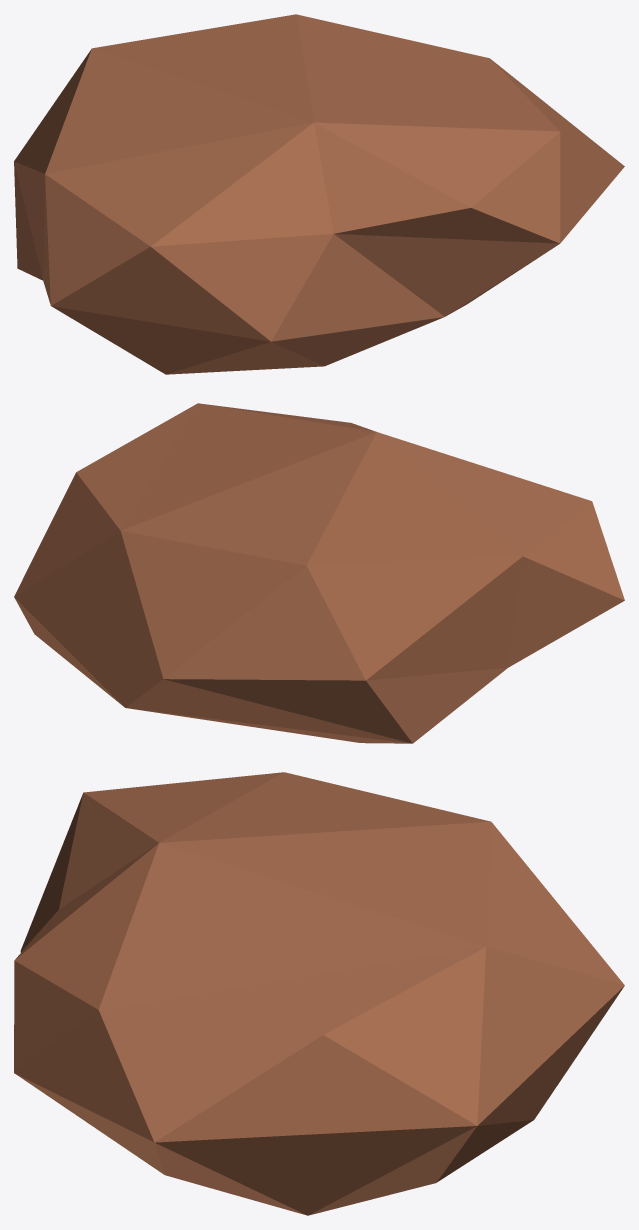
File: decor_rock_00.glb
3 views of the same model, one above another, from view 1: azimuth 30°, elevation 25°; view 2: azimuth 150°, elevation 25°; view 3: azimuth 270°, elevation 25° (orthographic). The views are drawn at different scales.
Visible parts, largest first — view 1: decor_rock_00; view 2: decor_rock_00; view 3: decor_rock_00.
Boxes of the visible parts, box(x1,y1,x2,y2) form: decor_rock_00: box(14, 14, 624, 374); decor_rock_00: box(14, 403, 624, 743); decor_rock_00: box(14, 772, 624, 1215).
Size of the model in its own units: 2.81 by 1.12 by 2.33.
